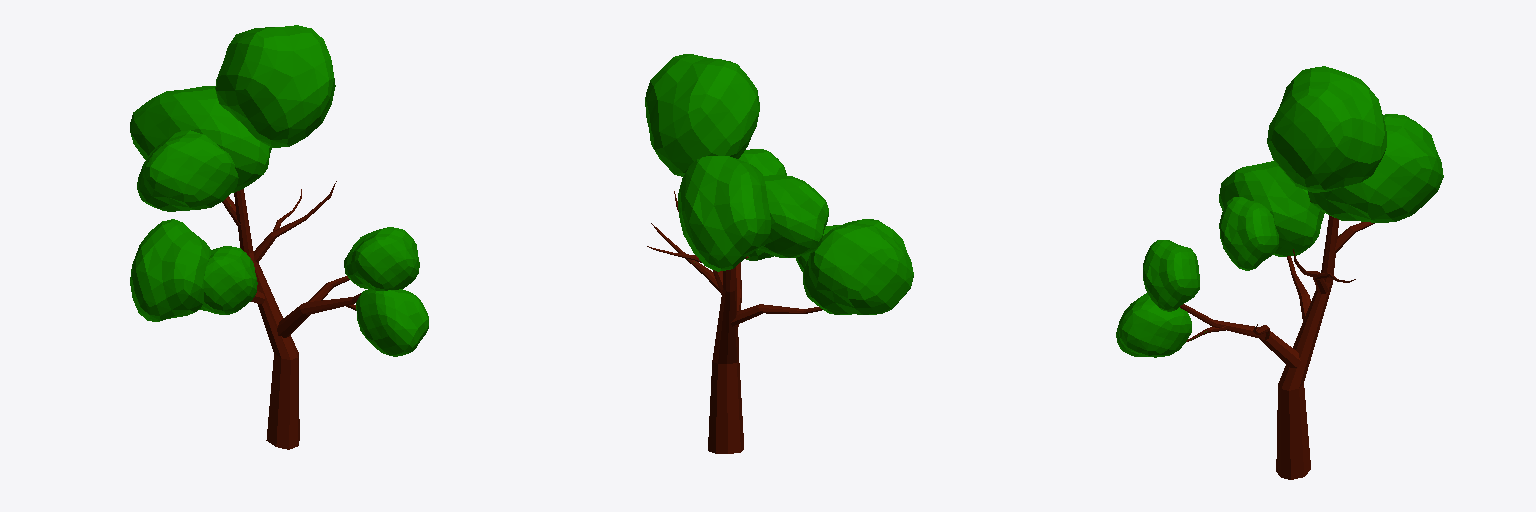
3 views of the same model, side by side, from view 1: azimuth 30°, elevation 25°; view 2: azimuth 150°, elevation 25°; view 3: azimuth 270°, elevation 25° (orthographic).
Parts seen in each view (by area): view 1: default1; view 2: default1; view 3: default1.
Boxes of the visible parts, x1=… form: default1: x1=130, y1=25, x2=428, y2=449; default1: x1=645, y1=54, x2=913, y2=453; default1: x1=1116, y1=66, x2=1443, y2=479.
Bounding box in the file's own units: 6.22 × 9.24 × 6.83.
Materials: 2 (1 with a texture image).